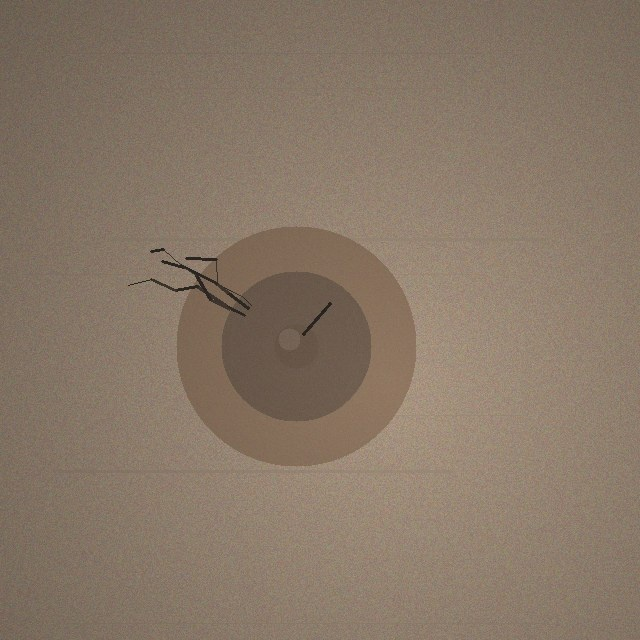crack: (176, 226, 416, 466)
